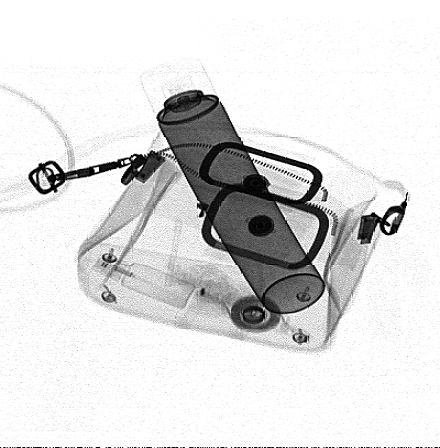Sprayer: (141, 56, 326, 314)
